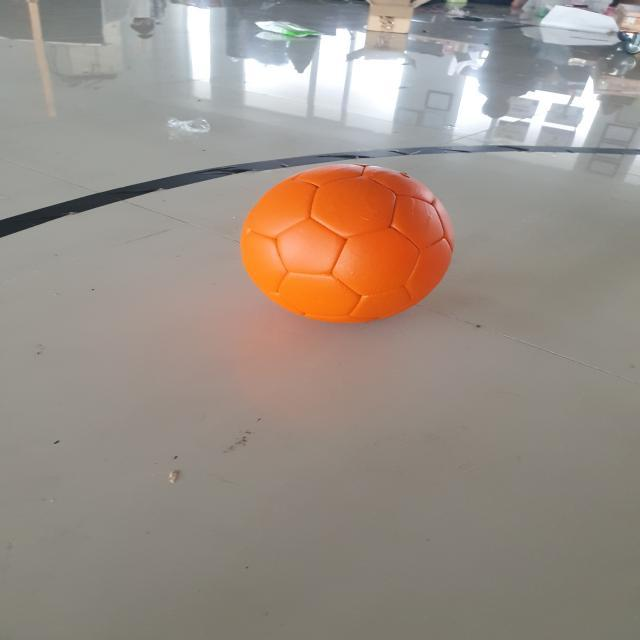bola: (232, 156, 466, 330)
